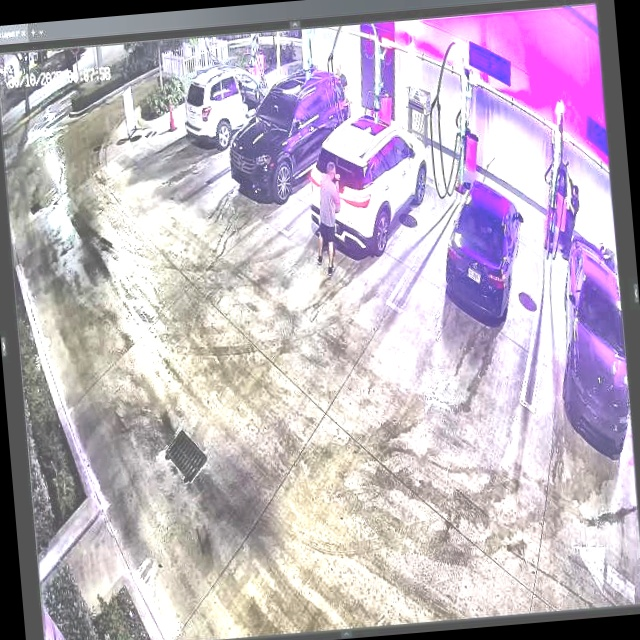Car: (305, 110, 435, 267), (223, 65, 356, 200), (439, 178, 528, 326), (182, 62, 281, 148)
